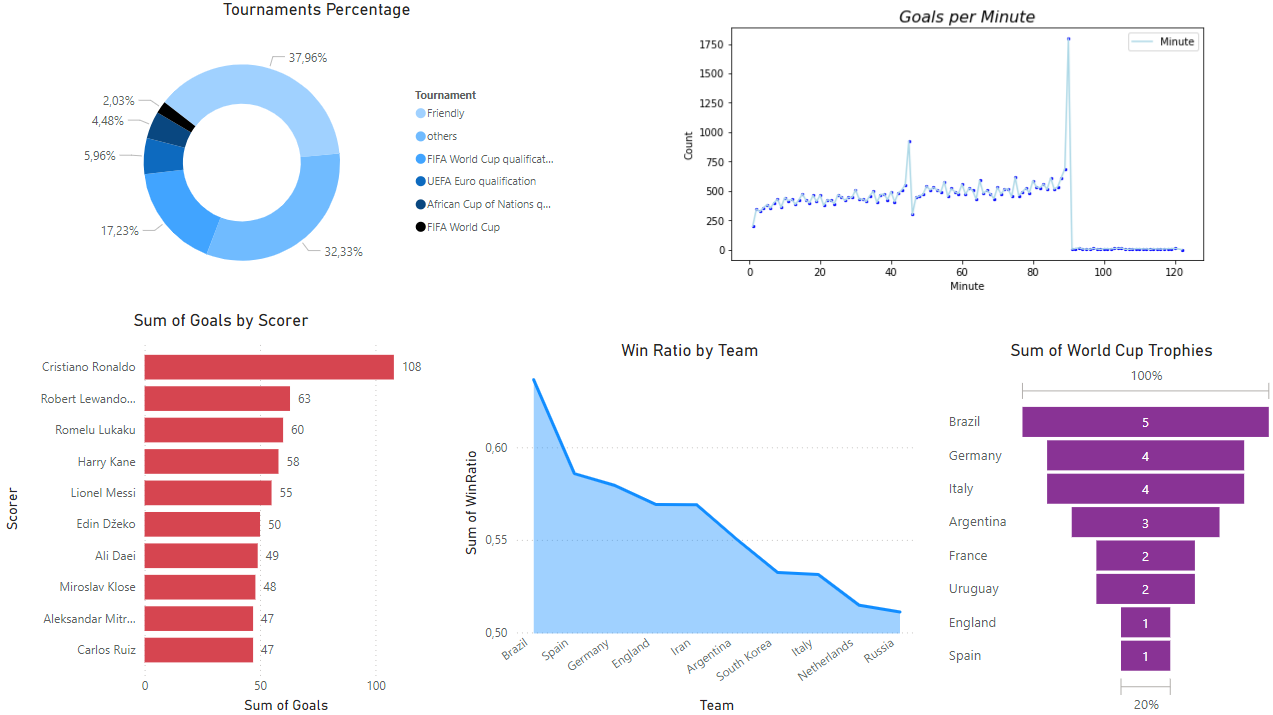

The dashboard page shown, as its layout file describes it:
{"tool":"powerbi","page":{"name":"Page 1","canvas":[1280,720],"ordinal":0},"visuals":[{"type":"barChart","fields":{"Y":["Sum(public best_scorer.Goals)"],"Category":["public best_scorer.Scorer"]},"box":[0,311.8,443.6,408.2],"z":0},{"type":"areaChart","title":"Win Ratio by Team","fields":{"Category":["public best_win_ratio.Team"],"Y":["Sum(public best_win_ratio.WinRatio)"]},"box":[459.1,341.8,463.6,378.2],"z":1000},{"type":"pythonVisual","fields":{"Values":["public goals_per_minute.Count","public goals_per_minute.Minute"]},"box":[670,0,550,308.3],"z":2000},{"type":"donutChart","title":"Tournaments Percentage","fields":{"Category":["public tournament_percentage.Tournament"],"Y":["Sum(public tournament_percentage.Percentage)"]},"box":[65,0,505,308.3],"z":3000},{"type":"funnel","title":"Sum of World Cup Trophies","fields":{"Category":["public world_cup.Team"],"Y":["Sum(public world_cup.Trophies)"]},"box":[945,341.7,335,378.3],"z":4000}]}

Visuals, with their boxes in screenshot pixels (x1, y1, x2, y2), scaled from the page's 1280x720 canvas onto the 1273x715 screenshot:
barChart - Sum(public best_scorer.Goals) x public best_scorer.Scorer: (x1=0, y1=310, x2=441, y2=714)
"Win Ratio by Team" areaChart: (x1=457, y1=339, x2=918, y2=714)
pythonVisual - public goals_per_minute.Count x public goals_per_minute.Minute: (x1=666, y1=0, x2=1213, y2=306)
"Tournaments Percentage" donutChart: (x1=65, y1=0, x2=567, y2=306)
"Sum of World Cup Trophies" funnel: (x1=940, y1=339, x2=1272, y2=714)
